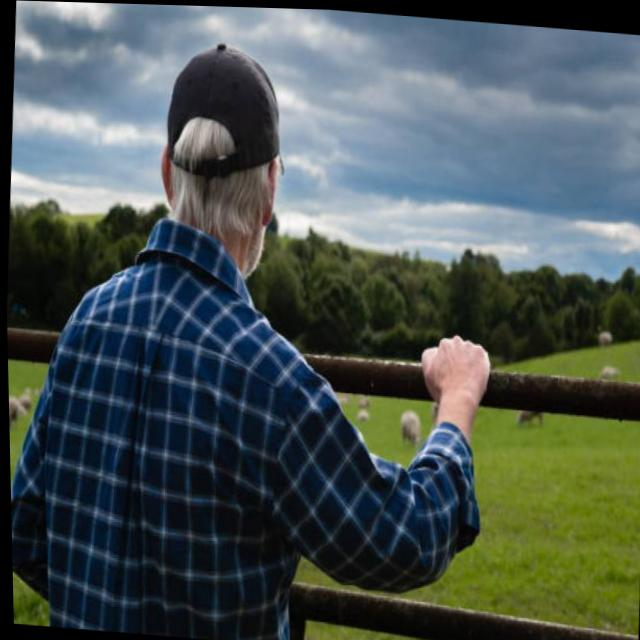no helmet: (152, 13, 300, 284)
